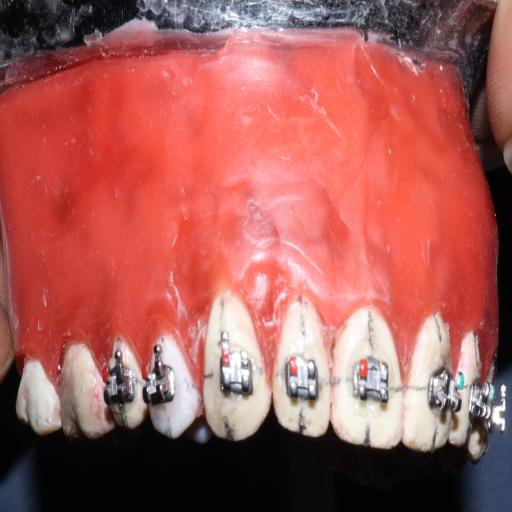incorrect_brace: (215, 337, 256, 397)
